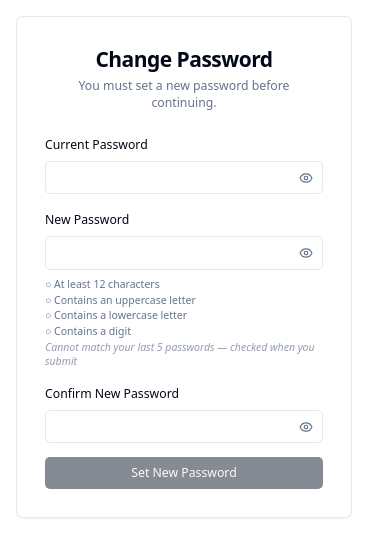
rule list › ticks a rule as it starts passing
The width and height of the screenshot is (369, 535).
Type "abcdefghijkl" into the password field labelled "New Password". click: (184, 253)
box: [45,236,323,270]
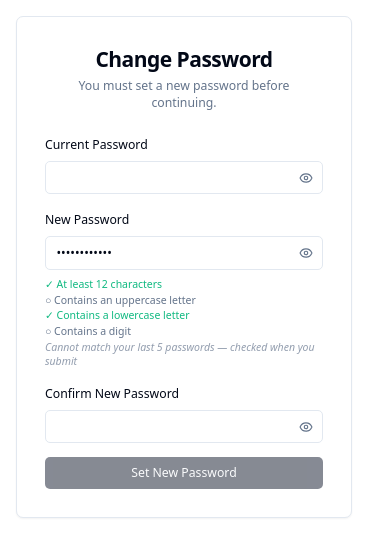
Expected: the list item "○ Contains an uppercase letter" is shown, [45,292,196,306]
Now the list item "✓ At least 12 characters" is shown, box [45,277,162,291]
